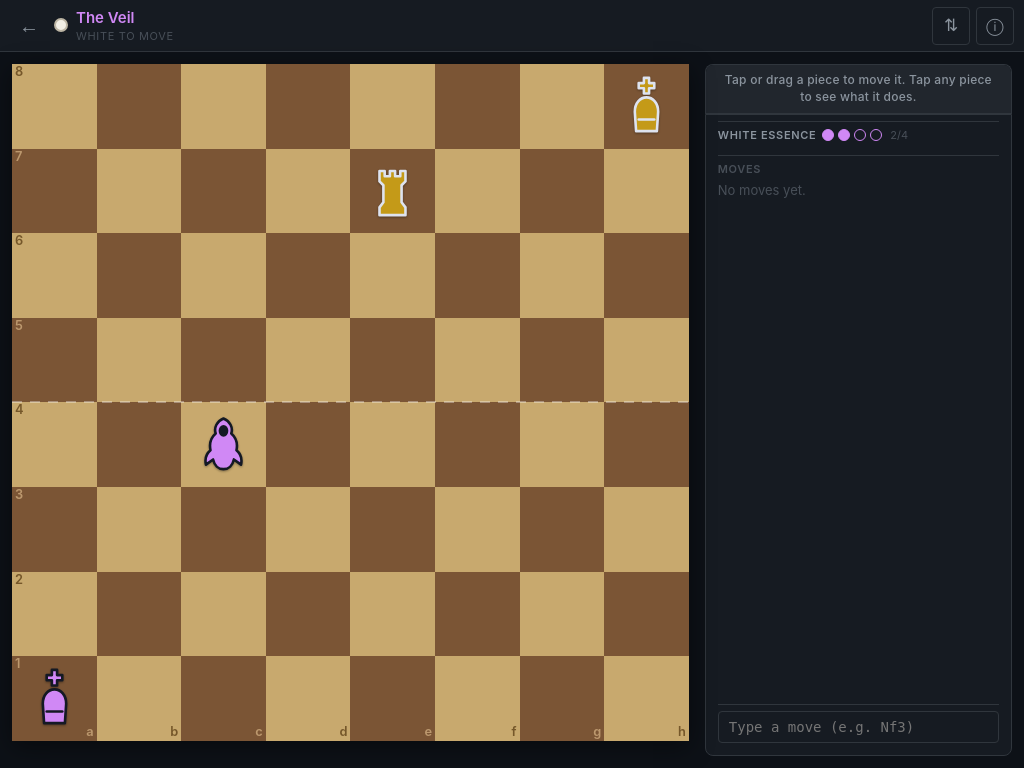
Scenario: piece info panel › a selected Wraith explains its Essence and the board markers
Click the cell named "c4: White Wraith".
click(224, 445)  # box [181,402,266,487]
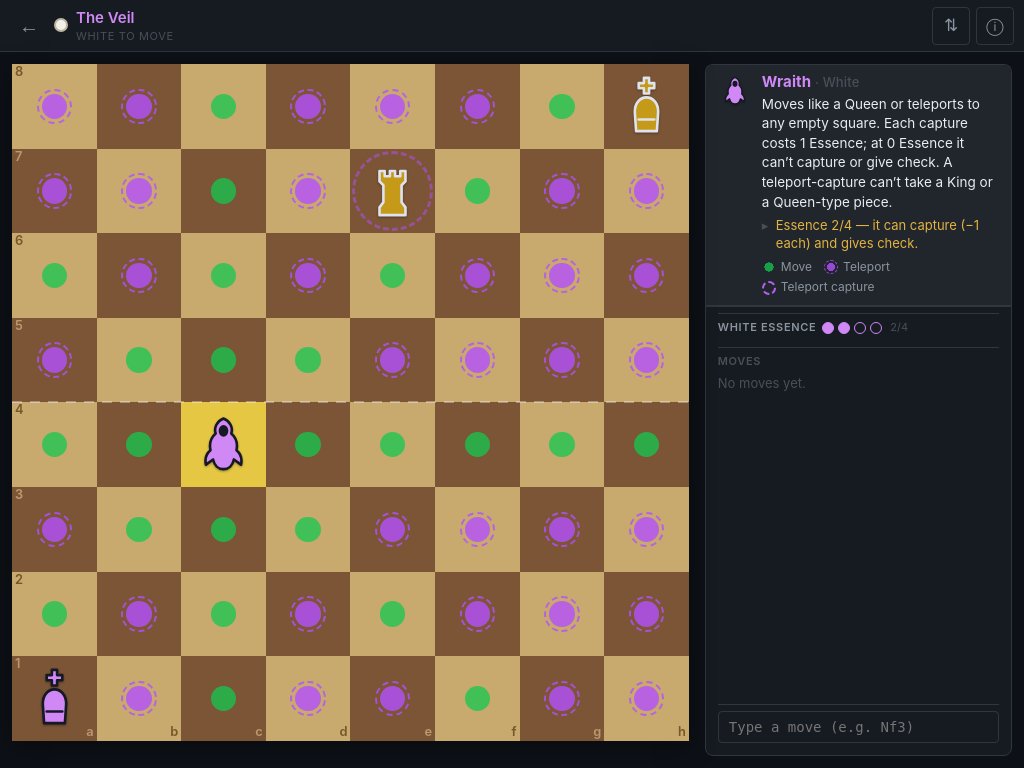
Now the element with test id "piece-info" shows "Wraith", box [762,72,811,91]
Now the list with test id "piece-notes" shows "Essence 2/4", box [776,217,979,251]
Now the element with test id "move-legend" shows "Move", box [781,258,812,274]
